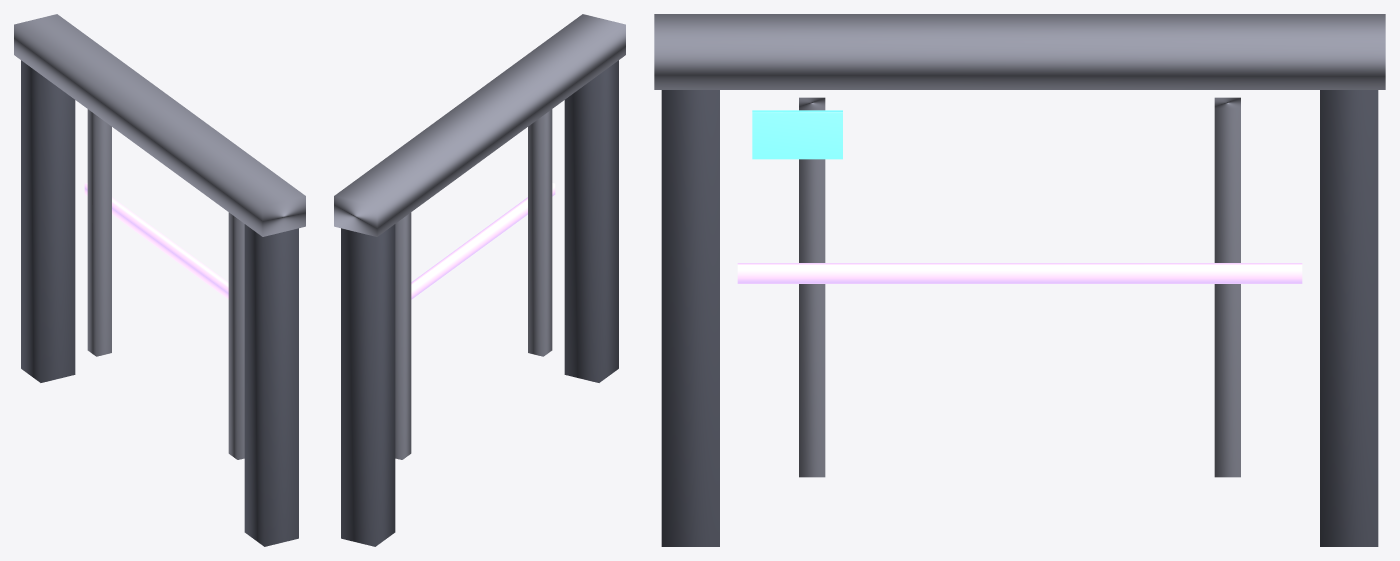
The model's file is parallax-reference-frame-lod1.glb.
The picture shows the model from 3 angles, left to right: view 1: azimuth 30°, elevation 25°; view 2: azimuth 150°, elevation 25°; view 3: azimuth 270°, elevation 25°; orthographic projection. The views are drawn at different scales.
Parts seen in each view (by area): view 1: parallax-reference-frame-crown, parallax-reference-frame-right, parallax-reference-frame-left, parallax-reference-frame-lattice-left, parallax-reference-frame-lattice-right, parallax-reference-frame-baseline; view 2: parallax-reference-frame-crown, parallax-reference-frame-left, parallax-reference-frame-right, parallax-reference-frame-lattice-right, parallax-reference-frame-lattice-left, parallax-reference-frame-baseline; view 3: parallax-reference-frame-crown, parallax-reference-frame-left, parallax-reference-frame-right, parallax-reference-frame-baseline, parallax-reference-frame-lattice-left, parallax-reference-frame-lattice-right, parallax-reference-frame-readout.
Part boxes in pixels (bbox=[...]): parallax-reference-frame-crown: bbox=[14, 14, 305, 236]; parallax-reference-frame-right: bbox=[244, 224, 298, 546]; parallax-reference-frame-left: bbox=[21, 60, 75, 382]; parallax-reference-frame-lattice-left: bbox=[87, 109, 111, 356]; parallax-reference-frame-lattice-right: bbox=[228, 212, 244, 459]; parallax-reference-frame-baseline: bbox=[84, 183, 228, 299]; parallax-reference-frame-crown: bbox=[334, 14, 625, 236]; parallax-reference-frame-left: bbox=[341, 224, 395, 546]; parallax-reference-frame-right: bbox=[564, 60, 618, 382]; parallax-reference-frame-lattice-right: bbox=[528, 109, 552, 356]; parallax-reference-frame-lattice-left: bbox=[395, 212, 411, 459]; parallax-reference-frame-baseline: bbox=[411, 183, 555, 299]; parallax-reference-frame-crown: bbox=[654, 14, 1385, 89]; parallax-reference-frame-left: bbox=[1320, 90, 1378, 546]; parallax-reference-frame-right: bbox=[661, 90, 719, 546]; parallax-reference-frame-baseline: bbox=[737, 263, 1302, 283]; parallax-reference-frame-lattice-left: bbox=[1214, 97, 1240, 477]; parallax-reference-frame-lattice-right: bbox=[799, 97, 825, 477]; parallax-reference-frame-readout: bbox=[752, 110, 842, 159].
Bounding box in the file's own units: 0.59 × 3.81 × 5.
